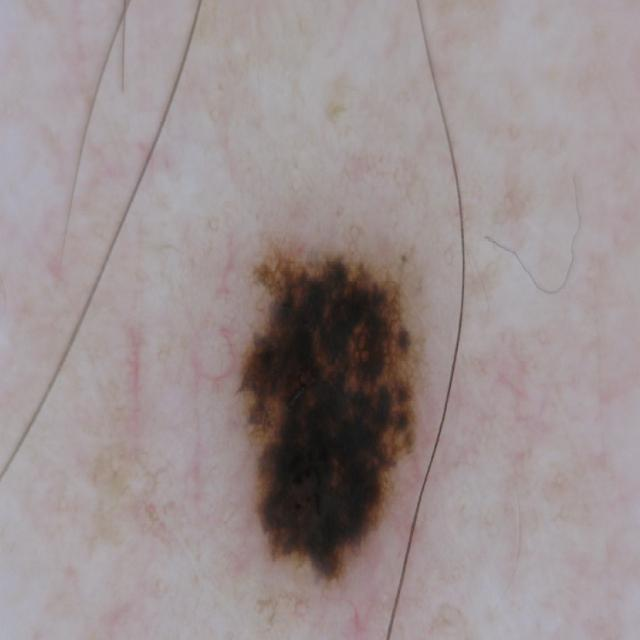Melanoma: (192, 149, 455, 596)
